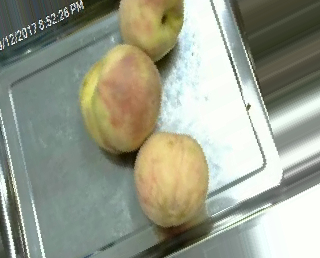Peach: (80, 43, 160, 152), (133, 131, 208, 229), (116, 0, 186, 60)
